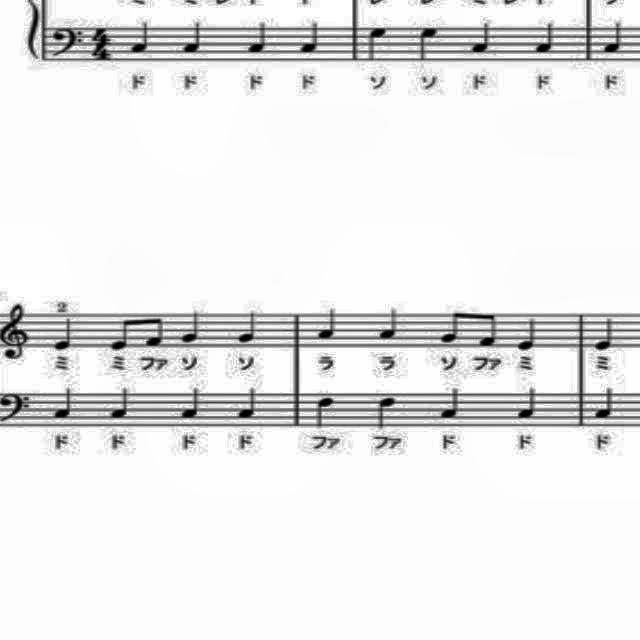Bass-clef: (48, 20, 88, 61), (1, 388, 36, 429)
Eighth-note: (436, 304, 466, 348), (476, 308, 504, 352), (108, 314, 136, 356), (141, 310, 167, 350)
Quarter-note: (416, 23, 444, 66), (362, 23, 390, 66), (244, 17, 272, 59), (531, 17, 559, 59), (466, 17, 494, 59), (298, 17, 326, 59), (592, 311, 620, 353), (438, 383, 467, 423), (178, 18, 206, 58), (234, 308, 262, 348), (51, 314, 79, 354), (314, 303, 342, 343), (234, 384, 262, 424), (372, 393, 400, 433), (178, 306, 206, 346), (592, 382, 620, 422), (177, 384, 205, 424), (51, 384, 79, 424), (376, 304, 404, 344), (514, 314, 542, 354), (514, 384, 542, 424), (600, 17, 626, 58), (106, 385, 134, 423), (128, 18, 154, 58), (313, 393, 339, 431)
Treble-clef: (0, 299, 32, 364)
